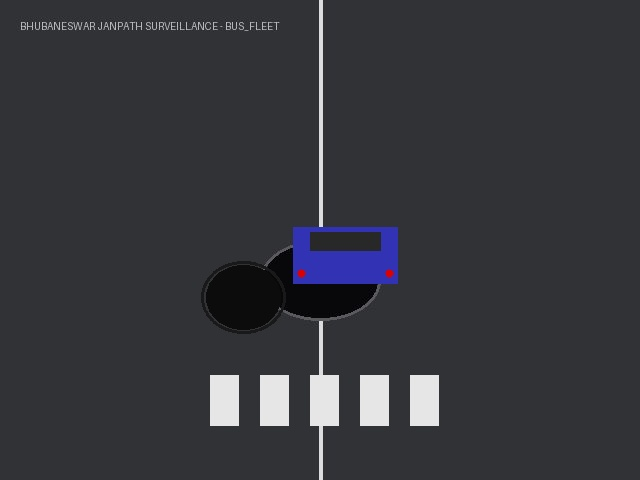pothole: (206, 265, 280, 329)
vehicle: (292, 226, 397, 284)
zebra_crossing: (190, 370, 450, 430)
